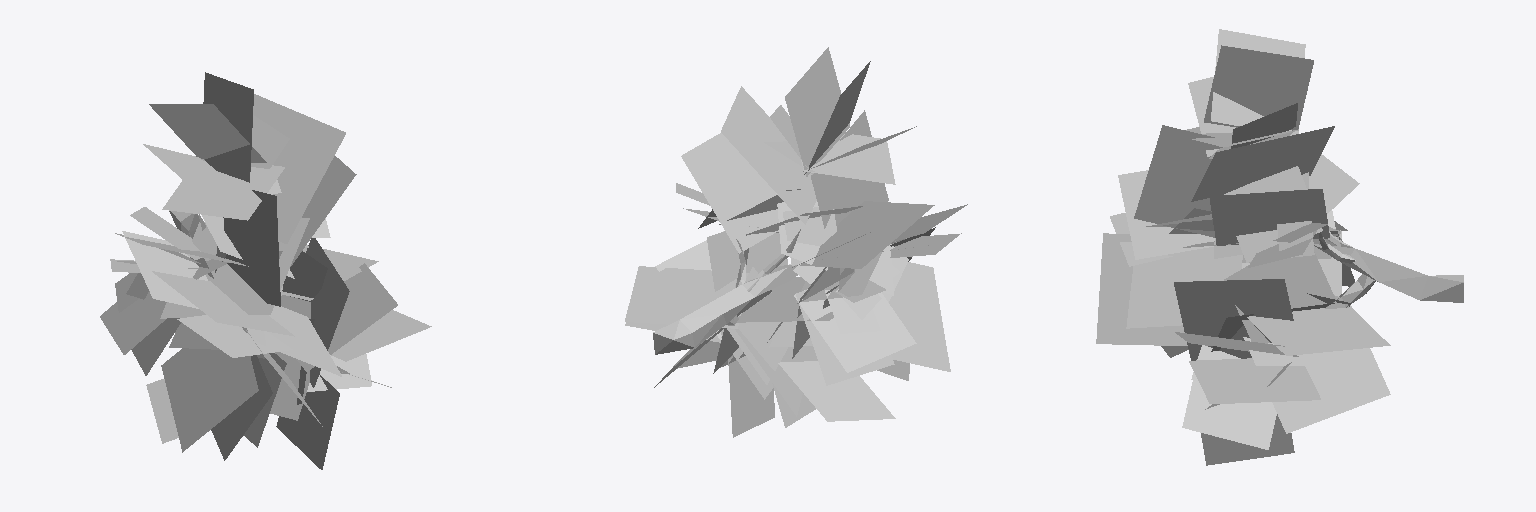
The model's file is cherry_LOD1.obj.
The picture shows the model from 3 angles: view 1: azimuth 30°, elevation 25°; view 2: azimuth 150°, elevation 25°; view 3: azimuth 270°, elevation 25°; orthographic projection.
Visible parts, largest first — view 1: Model__blend_root; view 2: Model__blend_root; view 3: Model__blend_root.
Part boxes in pixels (x1,y1,x2,y2): Model__blend_root: (100,72,431,469); Model__blend_root: (625,47,967,437); Model__blend_root: (1096,29,1463,465).
Size of the model in its own units: 8.72 by 11.53 by 9.83.